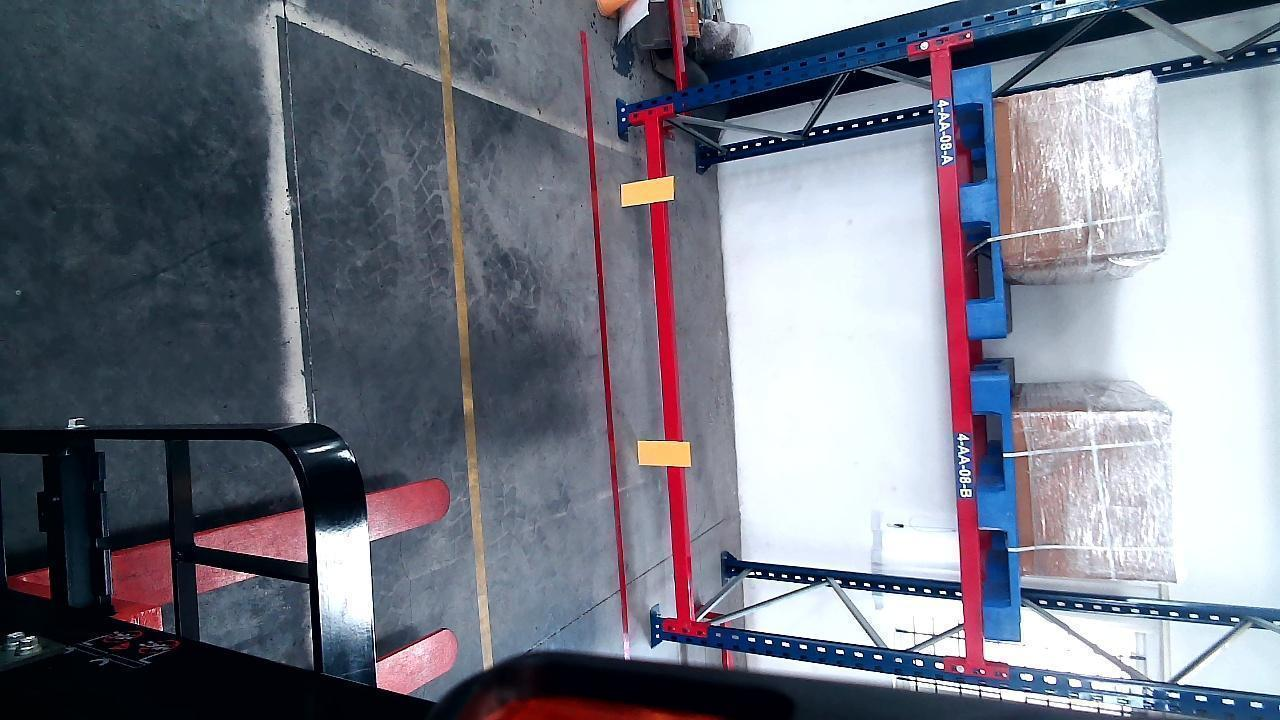red_line: (580, 36, 628, 632)
